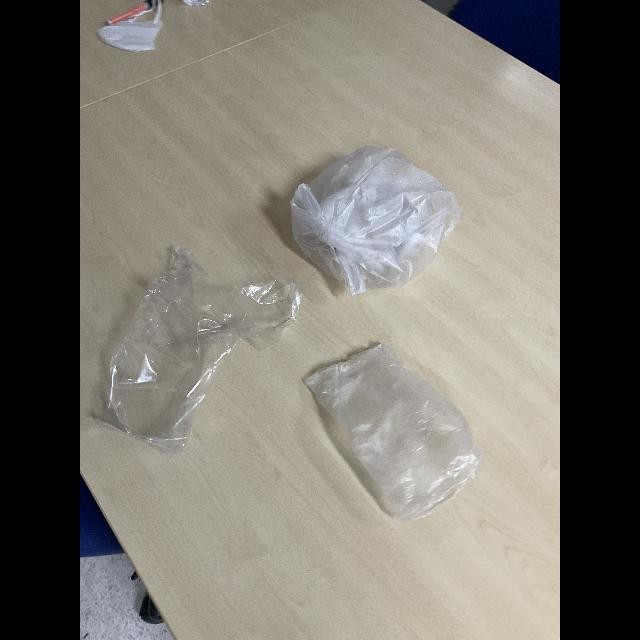plastic_bag: (98, 242, 286, 442), (308, 338, 492, 532), (276, 142, 467, 304)
